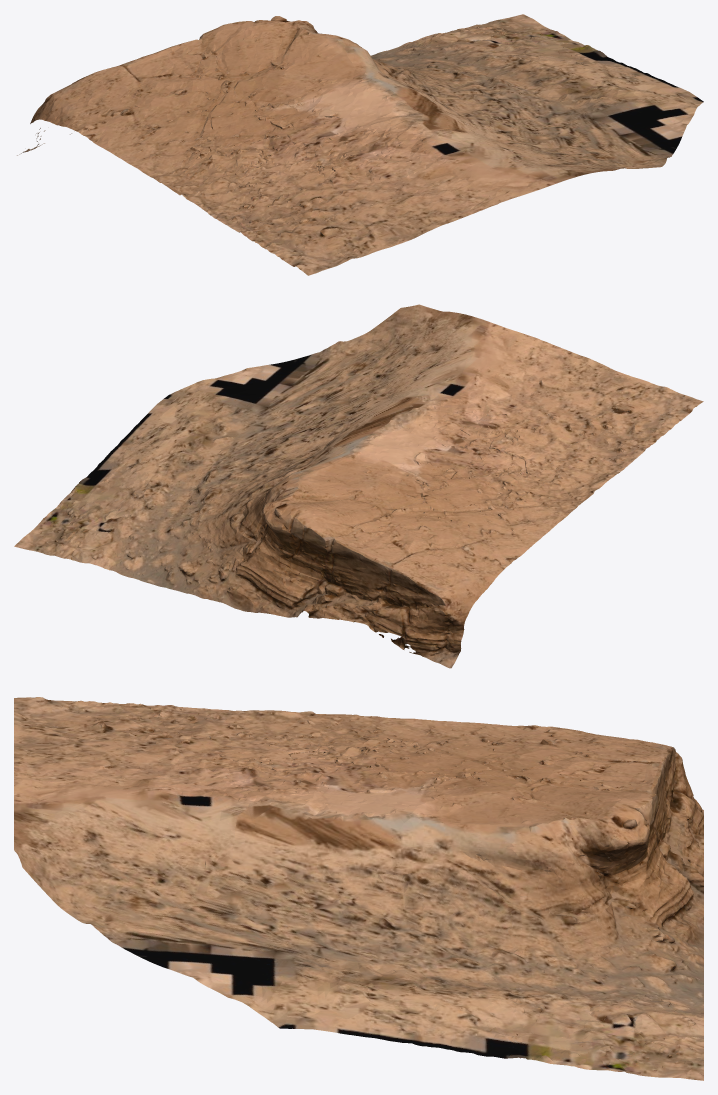
3 renders of one model, top to bottom at view 1: azimuth 30°, elevation 25°; view 2: azimuth 150°, elevation 25°; view 3: azimuth 270°, elevation 25°, orthographic. The views are drawn at different scales.
Bounding box in the file's own units: 33.42 × 8.12 × 33.42.
Materials: 3 (3 with a texture image).
